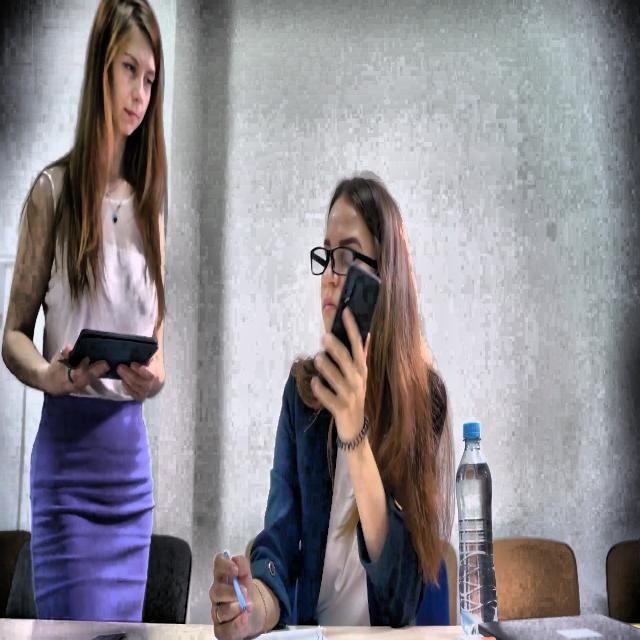Phone: (318, 261, 380, 416)
